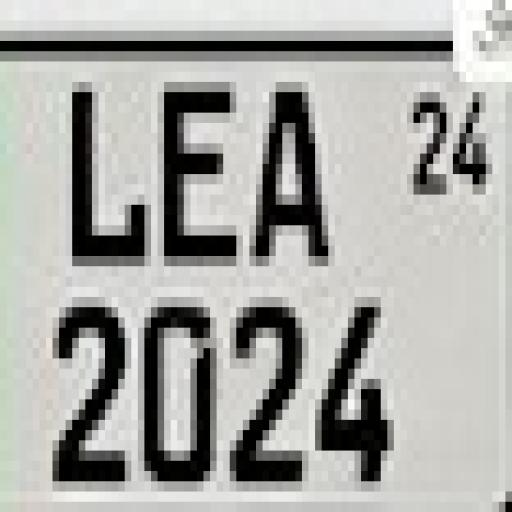0: (139, 286, 226, 508)
2: (52, 292, 131, 484), (233, 305, 311, 490)
4: (322, 309, 386, 476)
A: (261, 83, 328, 272)
E: (162, 76, 247, 288)
L: (62, 83, 157, 280)
